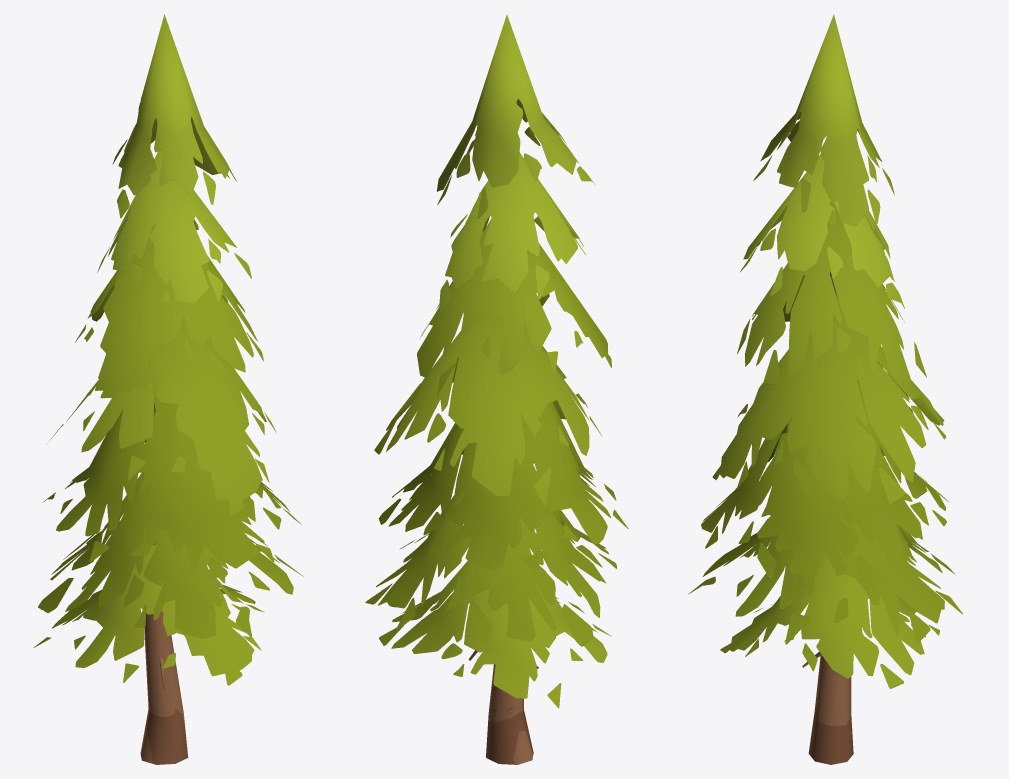
The model's file is md_full_tree_1.fbx.
3 renders of one model, left to right at view 1: azimuth 30°, elevation 25°; view 2: azimuth 150°, elevation 25°; view 3: azimuth 270°, elevation 25°, orthographic.
Visible parts, largest first — view 1: md_full_tree_1_LOD00; view 2: md_full_tree_1_LOD00; view 3: md_full_tree_1_LOD00.
Part boxes in pixels (bbox=[...]): md_full_tree_1_LOD00: bbox=[33, 14, 303, 764]; md_full_tree_1_LOD00: bbox=[365, 14, 628, 764]; md_full_tree_1_LOD00: bbox=[688, 14, 962, 764].
Size of what is drawn, in the model's own units: 3.86 by 10.75 by 4.16.
